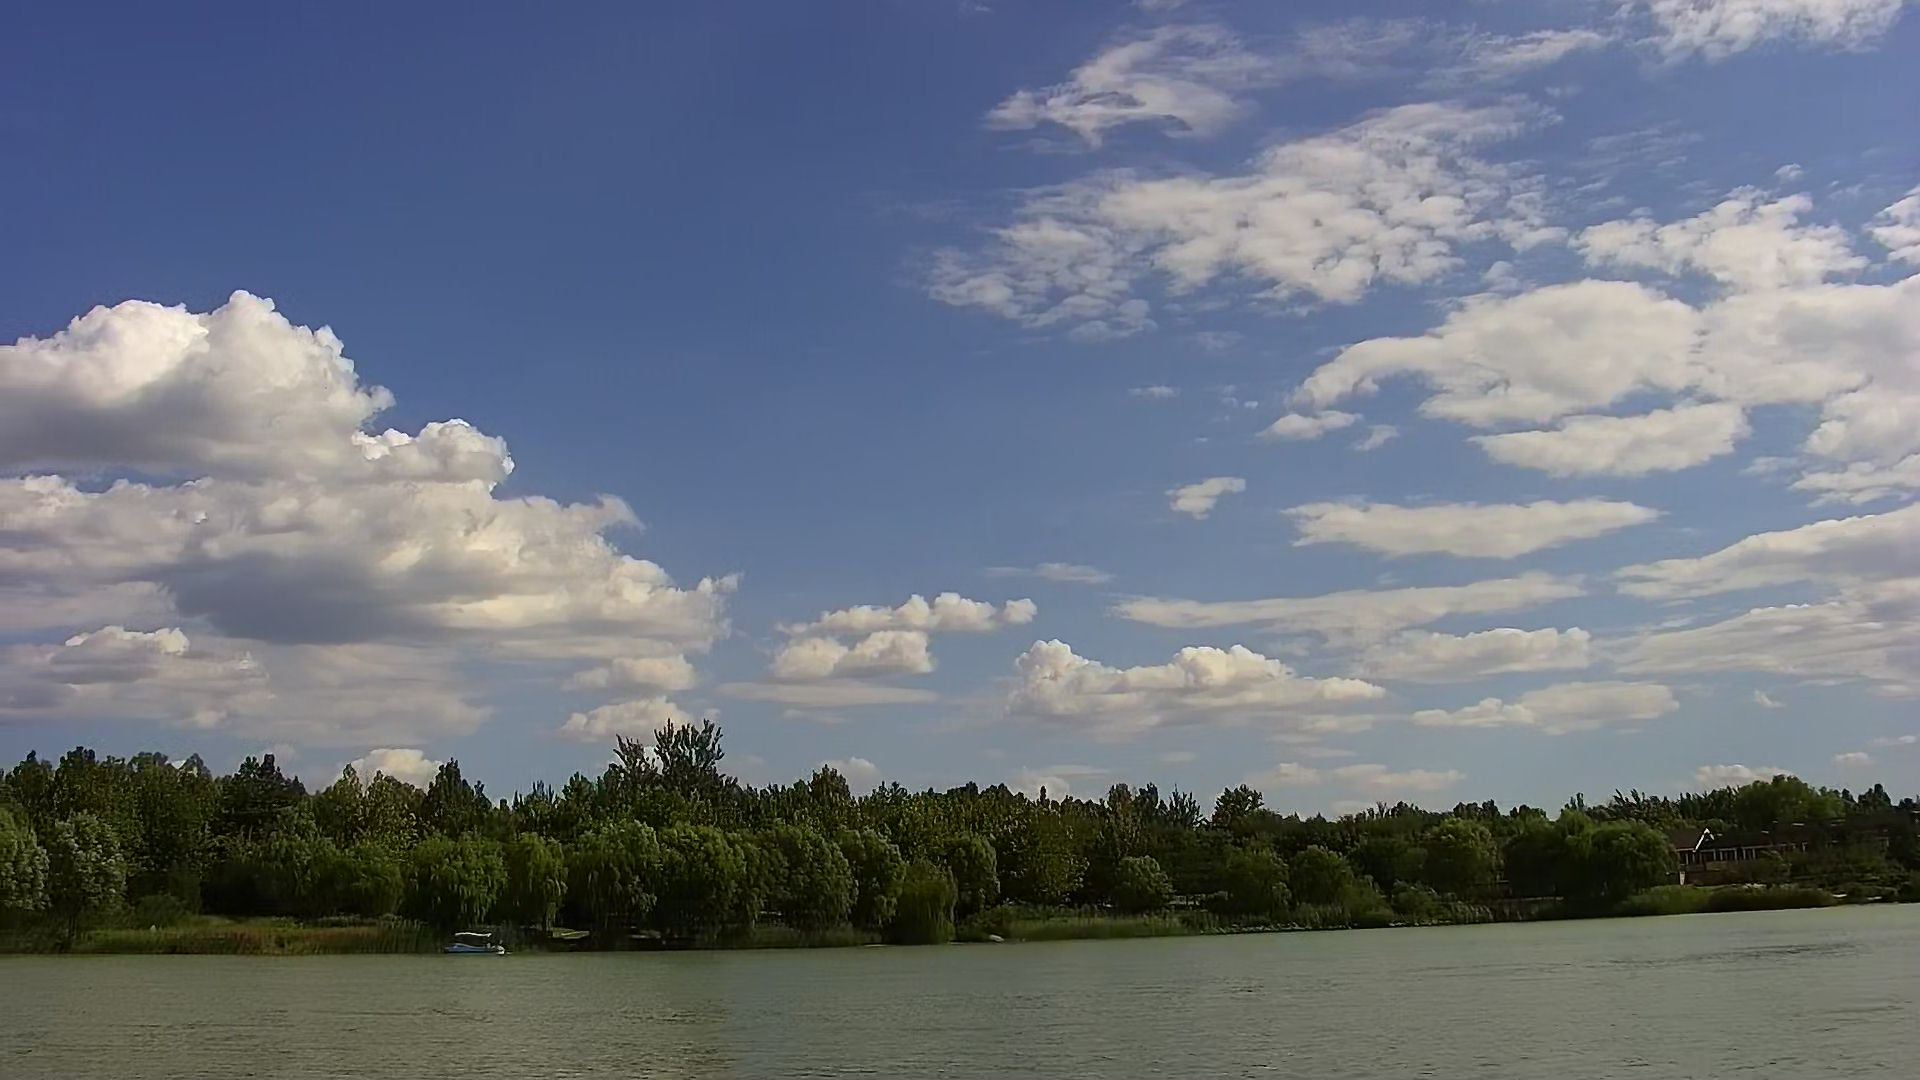boat: (440, 928, 502, 956)
